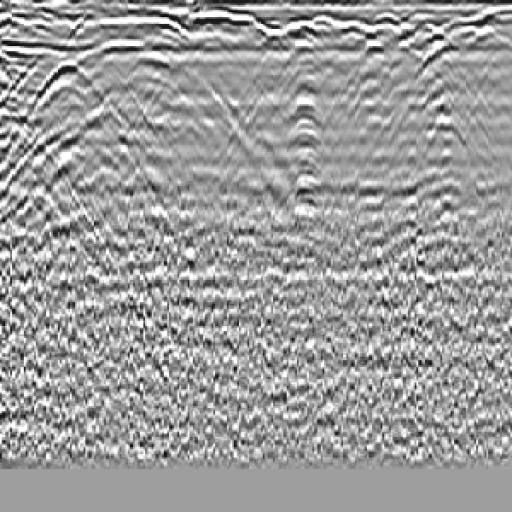non-metallic: (1, 46, 170, 273)
